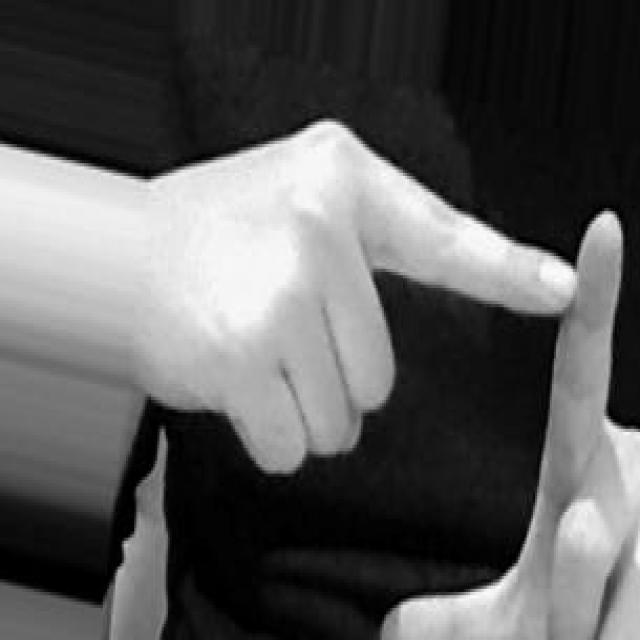J: (160, 110, 640, 640)
